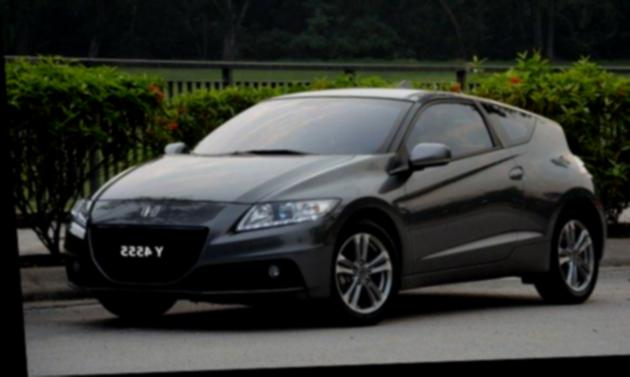License_Plate: (101, 236, 186, 264)
